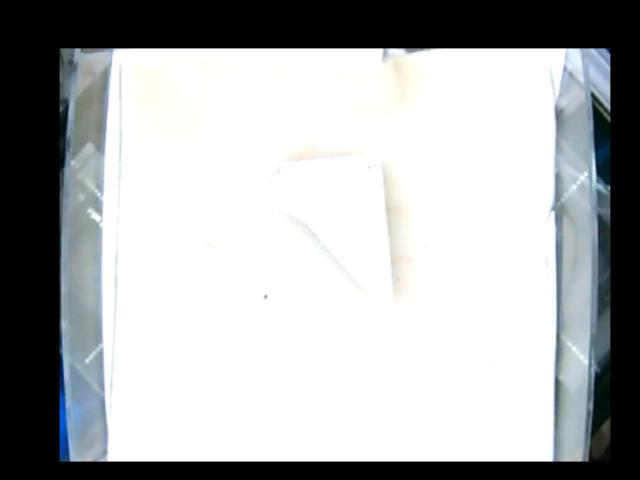China: (269, 156, 393, 309)
